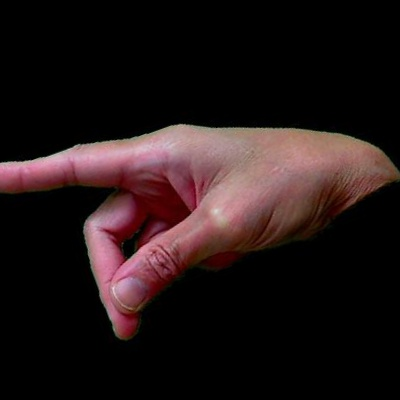p: (3, 3, 400, 385)
